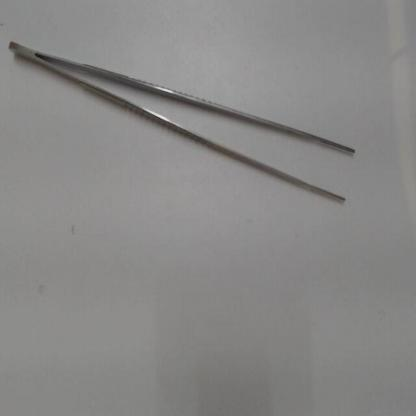DeBakey Dissector: (1, 25, 366, 220)
